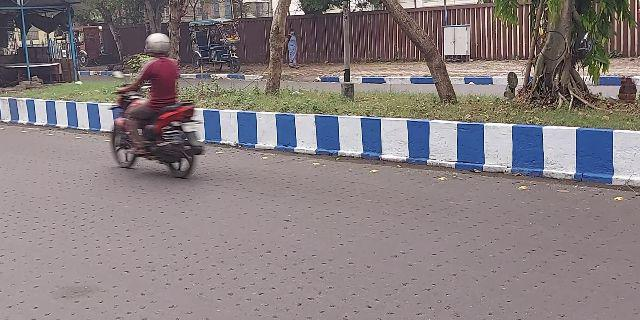Motorbike: (102, 26, 209, 185)
